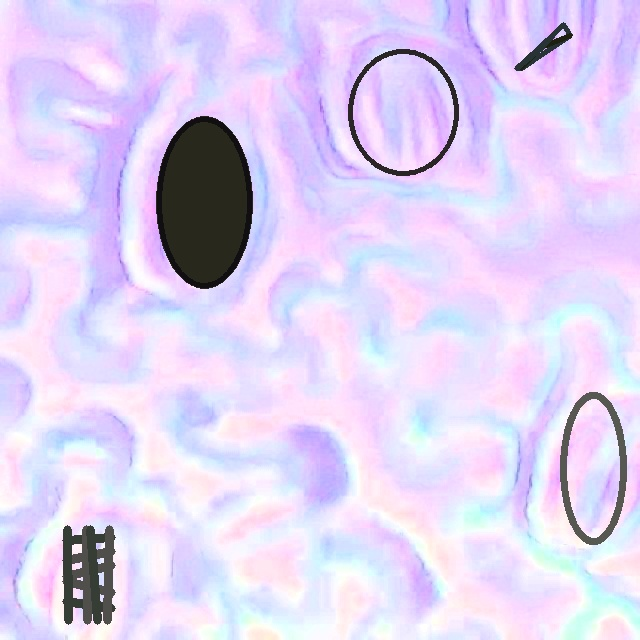open: (157, 116, 251, 289), (347, 48, 458, 176), (560, 392, 626, 545), (62, 525, 115, 624), (515, 23, 571, 69)
